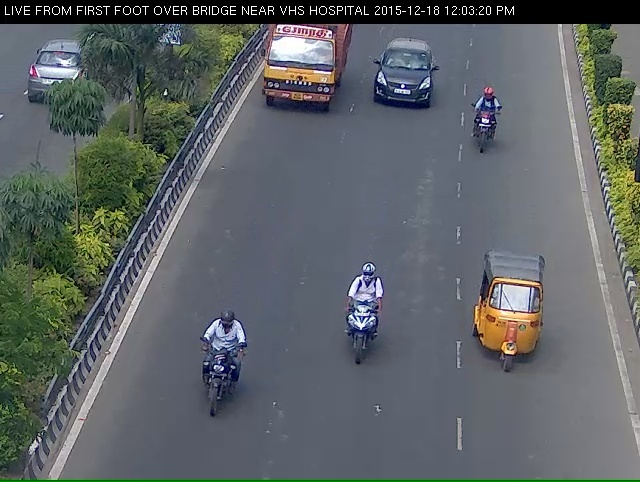Bus: (253, 22, 349, 119)
Car: (468, 267, 552, 396), (373, 48, 434, 122)
Person: (168, 354, 232, 468), (332, 297, 377, 408), (474, 93, 499, 162)
